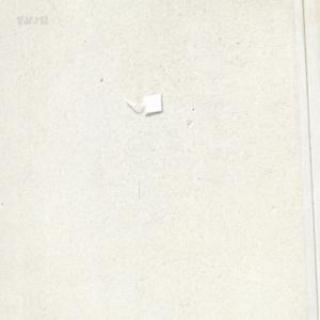LuggageTagtrack_idkeyframe: (122, 92, 162, 116)
